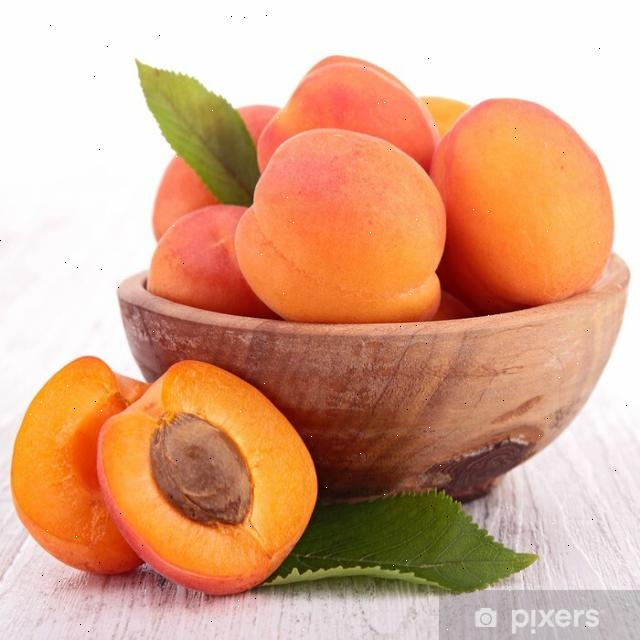kayisi: (99, 356, 315, 593), (237, 128, 447, 322), (430, 99, 614, 312), (9, 357, 146, 578), (256, 55, 441, 176), (147, 206, 273, 318)
kayisicekirdegi: (143, 409, 266, 535)
kayisiyapragi: (258, 492, 539, 593), (134, 59, 261, 208)
